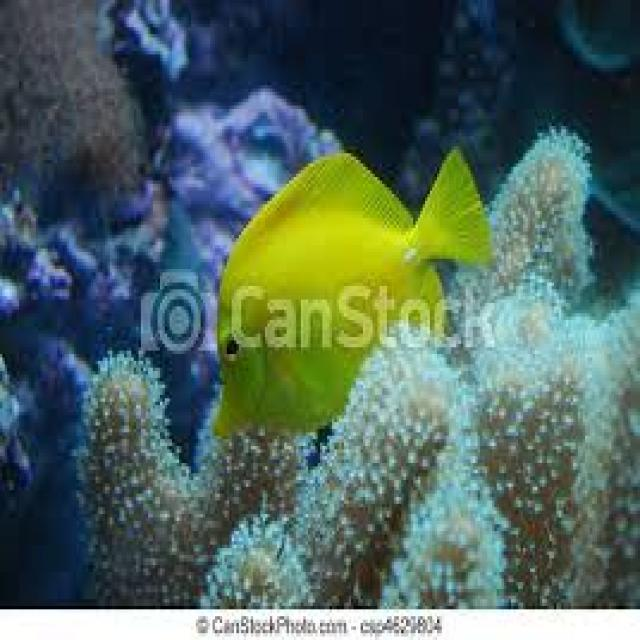YellowTang: (187, 129, 500, 462)
